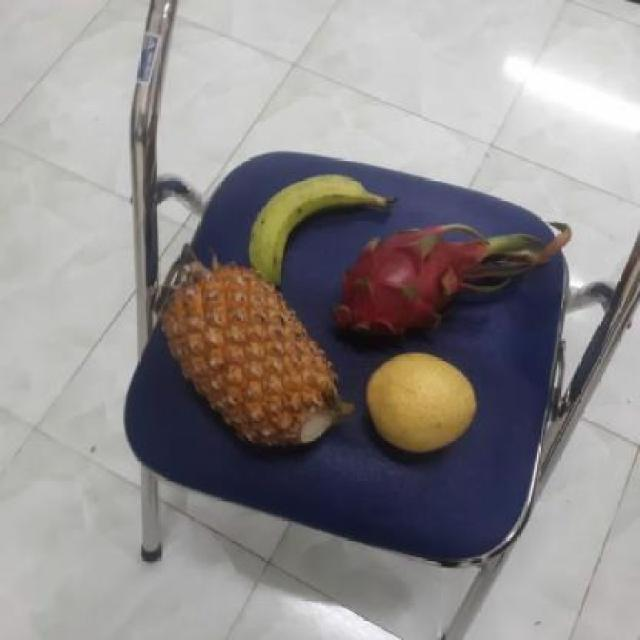banana: (234, 171, 381, 286)
dragon fruit: (322, 228, 496, 350)
pear: (360, 357, 478, 457)
pineapple: (161, 268, 347, 450)
